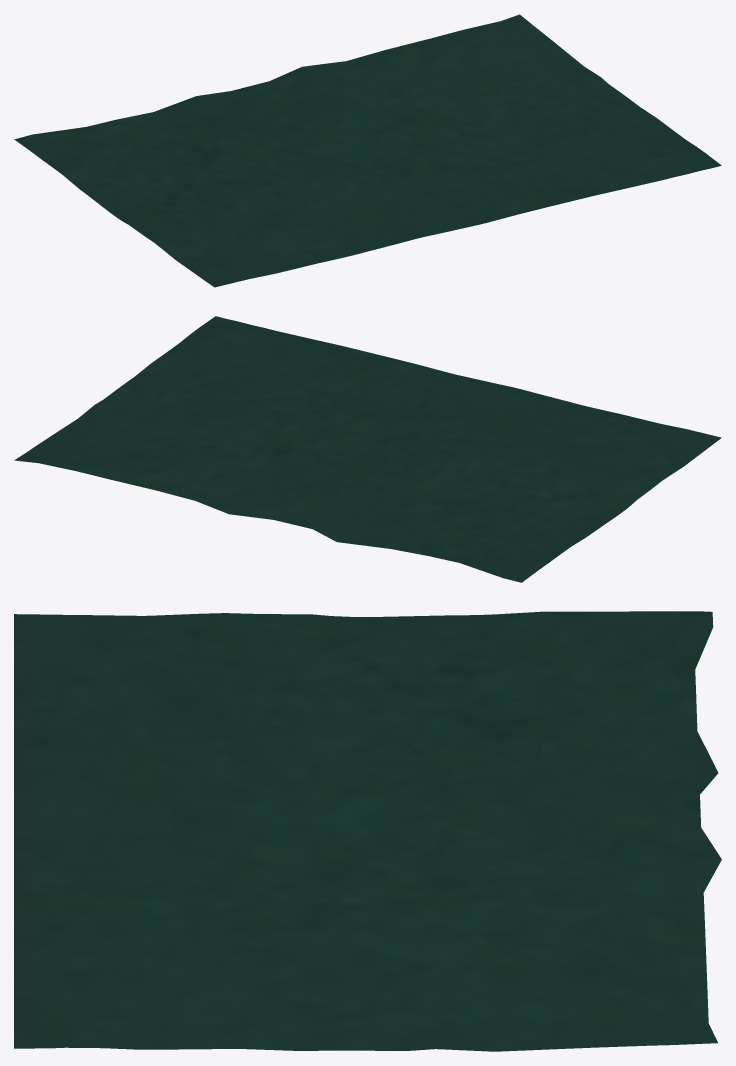
3 renders of one model, top to bottom at view 1: azimuth 30°, elevation 25°; view 2: azimuth 150°, elevation 25°; view 3: azimuth 270°, elevation 25°, orthographic. The views are drawn at different scales.
Size of the model in its own units: 52.22 by 0.6589 by 36.23.
2 materials, 2 textured.
